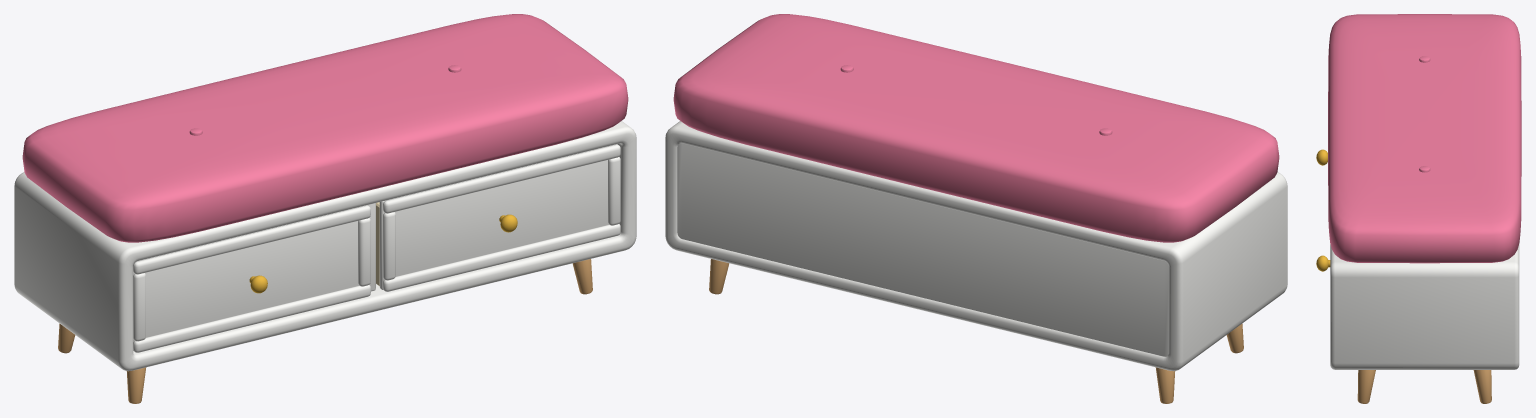
Rendered from banco_estofado_gavetas_rosa.glb.
The picture shows the model from 3 angles, left to right: view 1: azimuth 30°, elevation 25°; view 2: azimuth 150°, elevation 25°; view 3: azimuth 270°, elevation 25°; orthographic projection. The views are drawn at different scales.
Visible parts, largest first — view 1: banco_estofado_gavetas_rosa, gaveta_2, gaveta_1; view 2: banco_estofado_gavetas_rosa; view 3: banco_estofado_gavetas_rosa.
Boxes of the visible parts, x1,y1,x2,y2 form: banco_estofado_gavetas_rosa: [14, 14, 636, 403]; gaveta_2: [376, 144, 620, 291]; gaveta_1: [133, 205, 370, 352]; banco_estofado_gavetas_rosa: [665, 14, 1287, 403]; banco_estofado_gavetas_rosa: [1328, 14, 1521, 403].
Size of the model in its own units: 1.11 by 0.4541 by 0.4346.
1 material, 1 textured.
